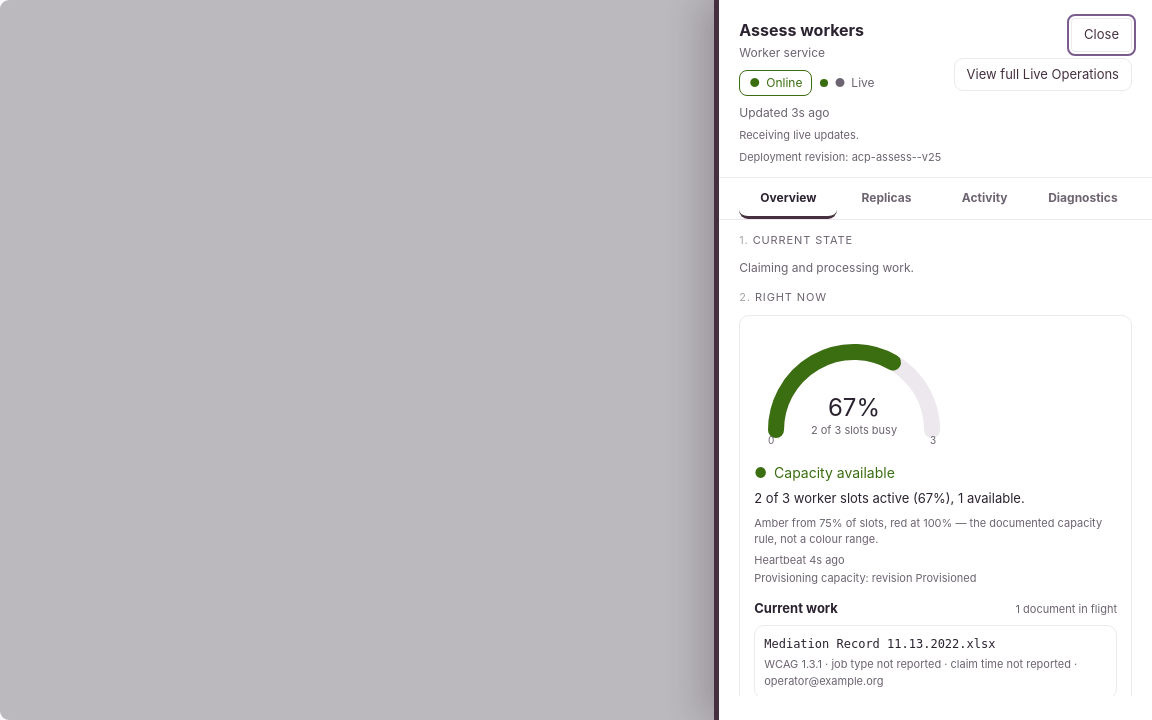
Test case: Four-tab drawer navigation › remembers a node tab during the session without changing a different node default
Click the tab "Activity" at [985, 198], box [936,178,1034,219]
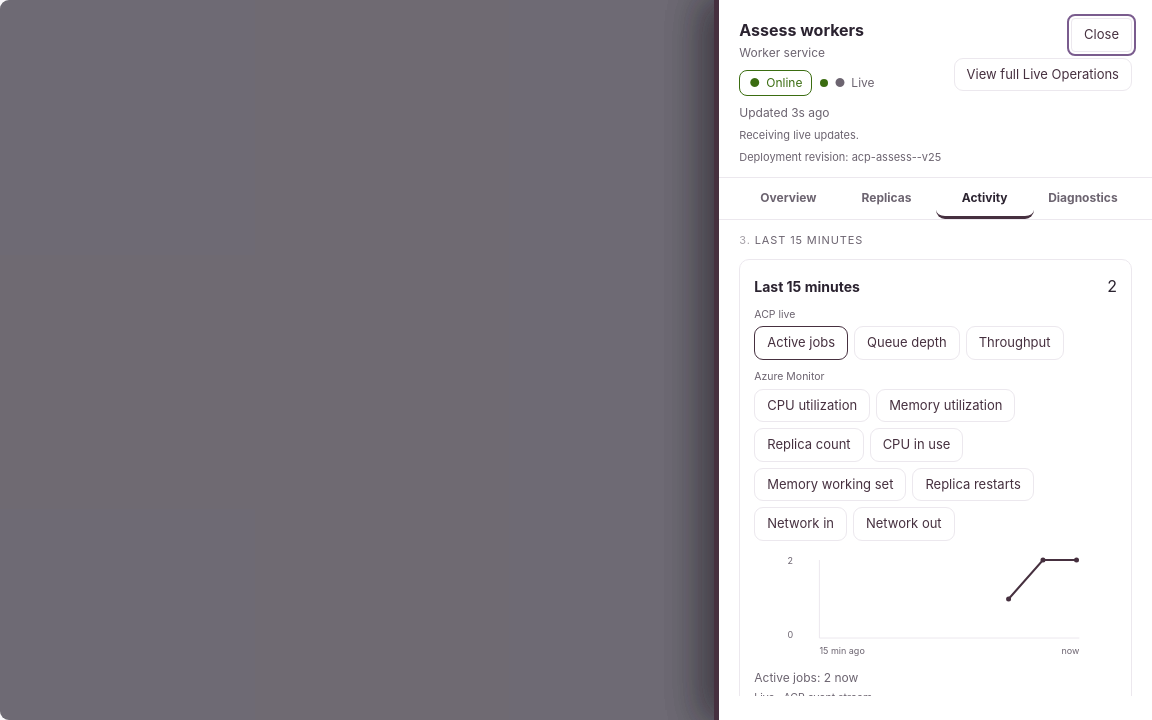
Check: the tab "Overview" below "Other workers" is shown, box [739,178,838,219]
Check: the tab "Activity" is shown, box [936,178,1034,219]
